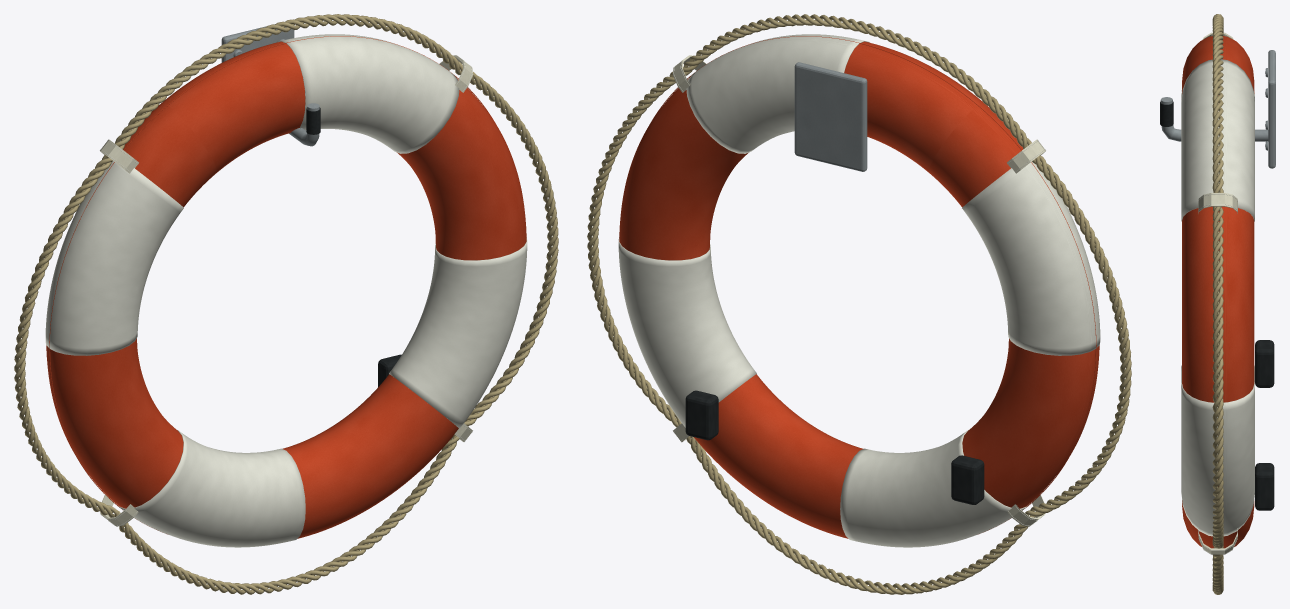
File: lifebuoy_after.glb
3 renders of one model, left to right at view 1: azimuth 30°, elevation 25°; view 2: azimuth 150°, elevation 25°; view 3: azimuth 270°, elevation 25°, orthographic. The views are drawn at different scales.
Parts seen in each view (by area): view 1: Riverdale lifebuoy review mesh; view 2: Riverdale lifebuoy review mesh; view 3: Riverdale lifebuoy review mesh.
Part boxes in pixels (x1,y1,x2,y2): Riverdale lifebuoy review mesh: (14,14,558,594); Riverdale lifebuoy review mesh: (587,14,1131,594); Riverdale lifebuoy review mesh: (1160,14,1275,594).
Size of the model in its own units: 0.7783 by 0.7784 by 0.1519.
6 materials, 6 textured.
